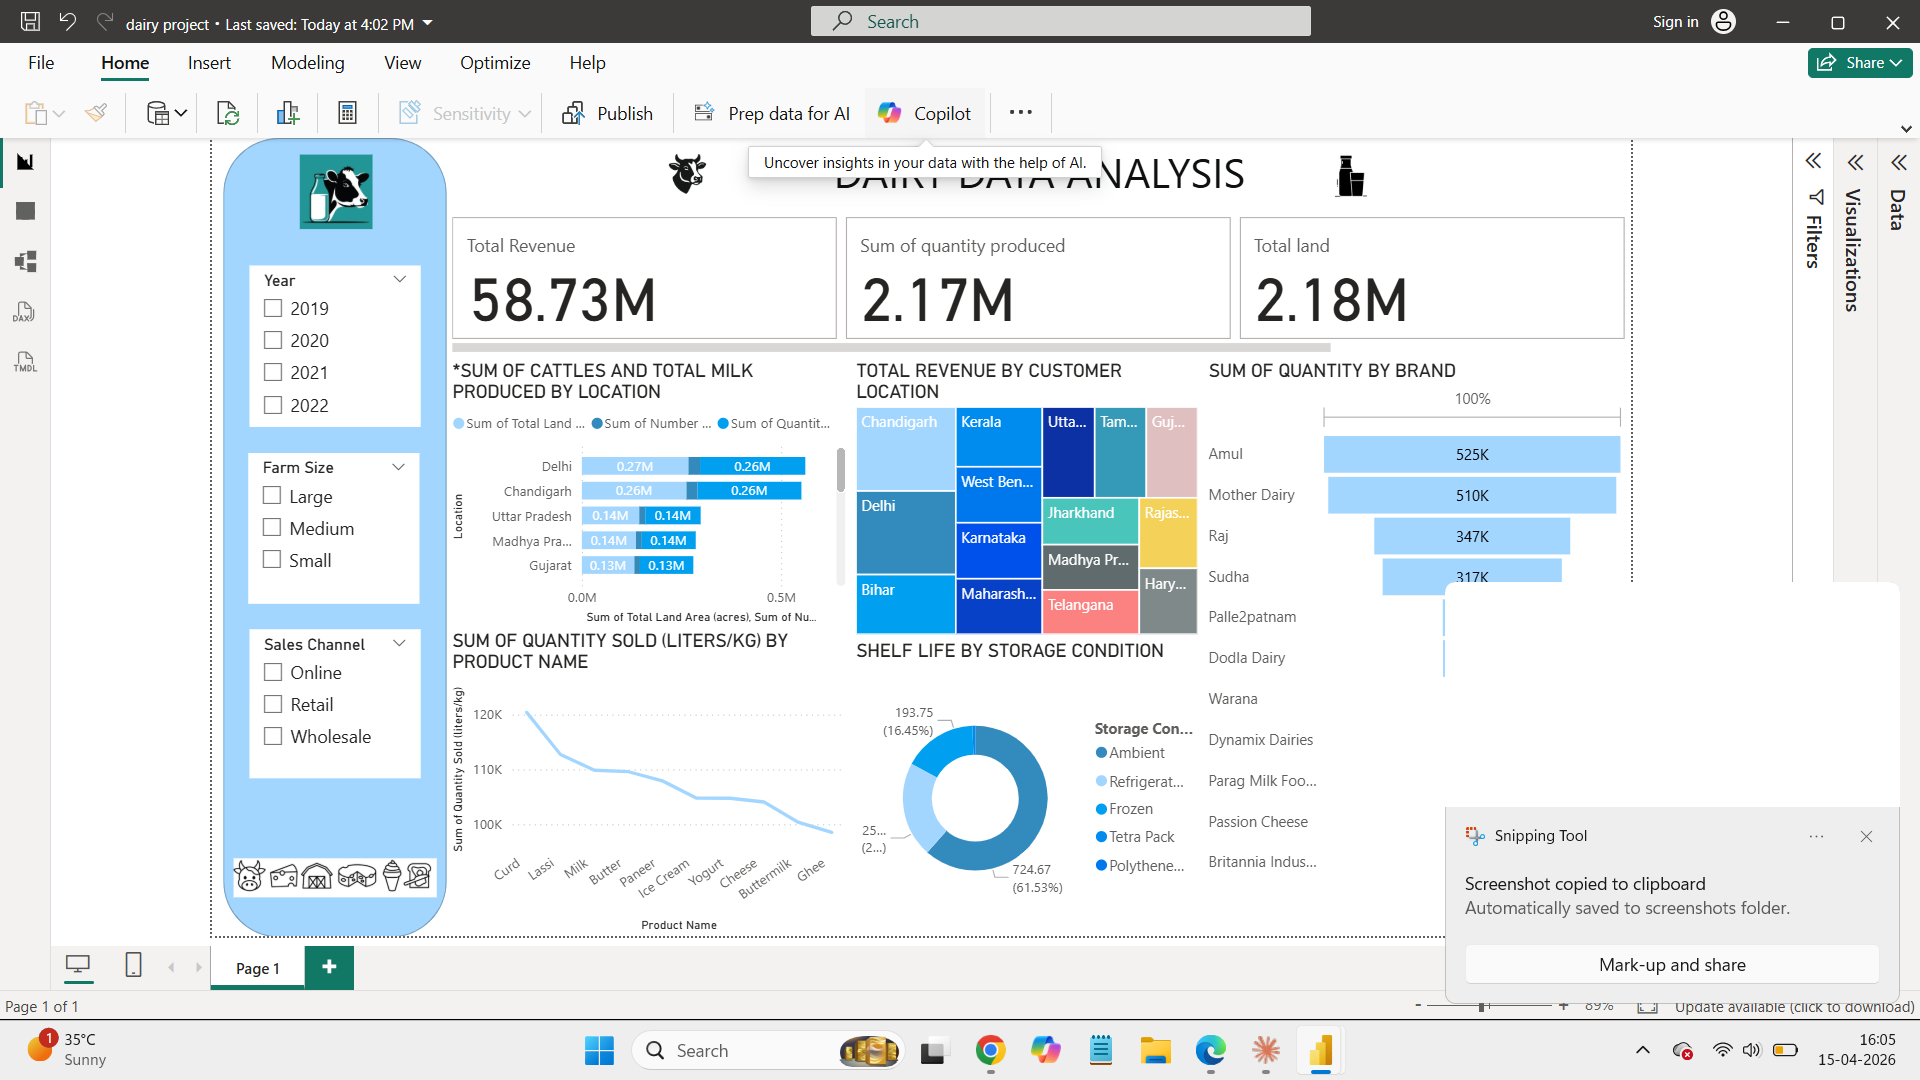

Layout of this report page (visuals, bound fields, positions):
{"tool":"powerbi","page":{"name":"Page 1","canvas":[1280,720],"ordinal":0},"visuals":[{"type":"cardVisual","fields":{"Data":["measure creating.Revenue","measure creating.Sum of quantity produced","measure creating.Total land","measure creating.Top Consuming Location"]},"box":[211.6,66,1068.8,133.3],"z":0},{"type":"shape","box":[10,0,201.5,720.8],"z":1000},{"type":"slicer","fields":{"Values":["dairy_product.Farm Size"]},"box":[32.6,283.7,154.7,136],"z":2000},{"type":"barChart","title":"*SUM OF CATTLES AND TOTAL MILK PRODUCED BY LOCATION","fields":{"Category":["dairy_product.Location"],"Y":["Sum(dairy_product.Total Land Area (acres))","Sum(dairy_product.Number of Cows)","Sum(dairy_product.Quantity (liters/kg))"]},"box":[211.6,199.3,364.4,243.3],"z":3000},{"type":"lineChart","title":"SUM OF QUANTITY SOLD (LITERS/KG) BY PRODUCT NAME","fields":{"Category":["dairy_product.Product Name"],"Y":["Sum(dairy_product.Quantity Sold (liters/kg))"]},"box":[211.6,442.7,364.4,277.6],"z":4000},{"type":"slicer","fields":{"Values":["dairy_product.Sales Channel"]},"box":[34.2,442.7,154.1,134.5],"z":5000},{"type":"donutChart","title":"SHELF LIFE BY STORAGE CONDITION","fields":{"Category":["dairy_product.Storage Condition"],"Y":["Sum(dairy_product.Shelf Life (days))"]},"box":[576,452.4,317.9,267.8],"z":6000},{"type":"funnel","title":"SUM OF QUANTITY BY BRAND","fields":{"Category":["dairy_product.Brand"],"Y":["Sum(dairy_product.Quantity (liters/kg))"]},"box":[893.9,199.3,386.4,520.9],"z":7000},{"type":"treemap","title":"TOTAL REVENUE BY CUSTOMER LOCATION","fields":{"Group":["dairy_product.Customer Location"],"Values":["measure creating.Revenue"]},"box":[576,199.3,317.9,253.1],"z":8000},{"type":"textbox","box":[211.6,0,1068.8,66],"z":9000},{"type":"slicer","fields":{"Values":["DateTable.Year"]},"box":[33.7,115.1,154.7,145.3],"z":10000},{"type":"image","box":[1000.3,9.8,53.8,48.9],"z":11000},{"type":"image","box":[393.8,0,63.6,66],"z":12000},{"type":"image","box":[68.5,9.8,86.8,77],"z":13000},{"type":"image","box":[14.7,613.9,193.2,106.4],"z":14000}]}

Visuals, with their boxes on the page's 1280x720 design canvas (x1, y1, x2, y2). These are canvas units, not pixel positions in the 1920x1080 screenshot, which may show the page scaled, cropped or inside an application window:
cardVisual - measure creating.Revenue x measure creating.Sum of quantity produced: <region>212, 66, 1280, 199</region>
shape: <region>10, 0, 212, 721</region>
slicer - dairy_product.Farm Size: <region>33, 284, 187, 420</region>
"*SUM OF CATTLES AND TOTAL MILK PRODUCED BY LOCATION" barChart: <region>212, 199, 576, 443</region>
"SUM OF QUANTITY SOLD (LITERS/KG) BY PRODUCT NAME" lineChart: <region>212, 443, 576, 720</region>
slicer - dairy_product.Sales Channel: <region>34, 443, 188, 577</region>
"SHELF LIFE BY STORAGE CONDITION" donutChart: <region>576, 452, 894, 720</region>
"SUM OF QUANTITY BY BRAND" funnel: <region>894, 199, 1280, 720</region>
"TOTAL REVENUE BY CUSTOMER LOCATION" treemap: <region>576, 199, 894, 452</region>
textbox: <region>212, 0, 1280, 66</region>
slicer - DateTable.Year: <region>34, 115, 188, 260</region>
image: <region>1000, 10, 1054, 59</region>
image: <region>394, 0, 457, 66</region>
image: <region>68, 10, 155, 87</region>
image: <region>15, 614, 208, 720</region>
